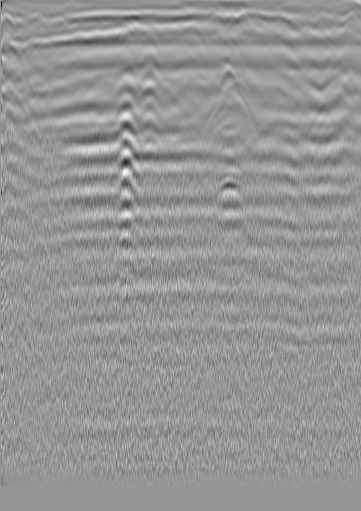가스: (210, 175, 246, 204)
상수: (305, 29, 330, 55)
오수: (25, 10, 45, 30)
우수: (180, 21, 202, 41)
